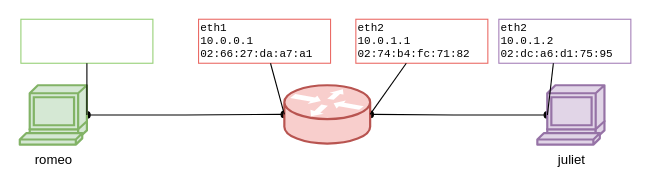
Image size: 650x187. Some labels were removed from this diagram. Here are the shapes that lost their labels. From the top down, the box of each, then its label:
(20, 18, 153, 63): eth1 10.0.0.2 02:20:75:db:bb:03
(283, 84, 371, 144): router
